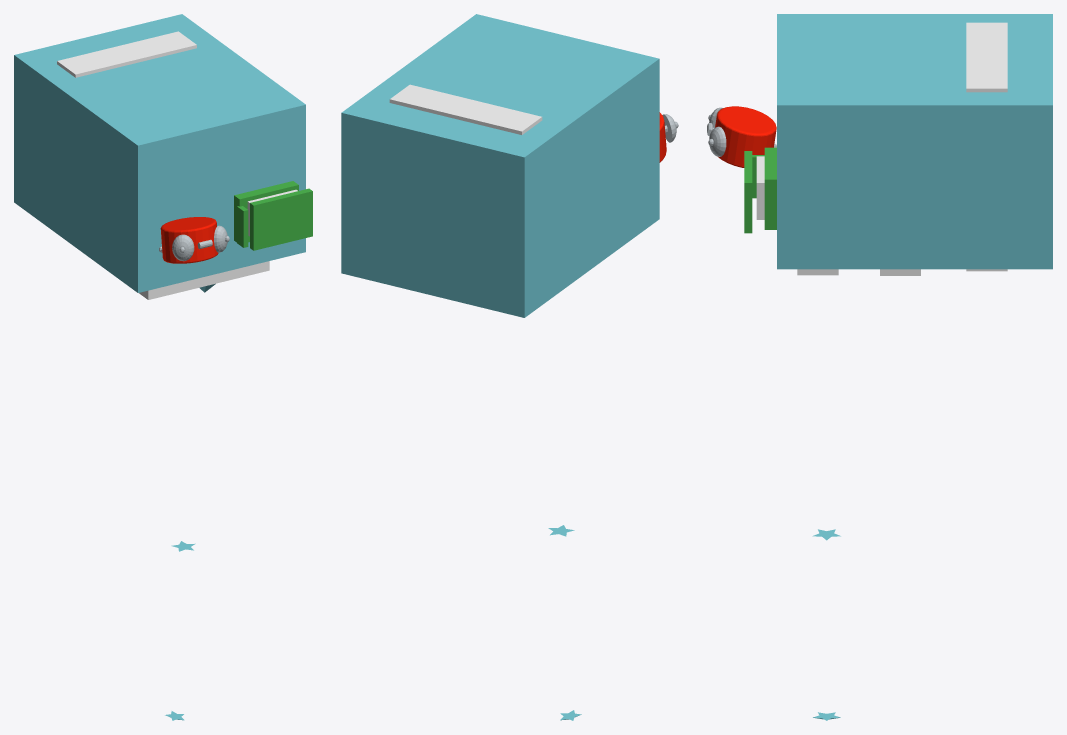
Rendered from tinker.obj.
The picture shows the model from 3 angles, left to right: view 1: azimuth 30°, elevation 25°; view 2: azimuth 150°, elevation 25°; view 3: azimuth 270°, elevation 25°; orthographic projection. The views are drawn at different scales.
Visible parts, largest first — view 1: group_0_7720667, group_0_4634441, group_0_16448250, group_0_16719104, group_0_12568524; view 2: group_0_7720667, group_0_16448250; view 3: group_0_7720667, group_0_16448250, group_0_16719104, group_0_4634441, group_0_12568524.
Boxes of the visible parts, x1,y1,x2,y2 form: group_0_7720667: [14, 14, 305, 720]; group_0_4634441: [234, 181, 312, 250]; group_0_16448250: [57, 31, 297, 299]; group_0_16719104: [160, 217, 218, 263]; group_0_12568524: [159, 225, 229, 261]; group_0_7720667: [341, 14, 659, 720]; group_0_16448250: [389, 84, 542, 134]; group_0_7720667: [777, 14, 1052, 720]; group_0_16448250: [756, 22, 1007, 275]; group_0_16719104: [715, 106, 776, 167]; group_0_4634441: [744, 147, 776, 233]; group_0_12568524: [707, 107, 776, 156].
Size of the model in its own units: 105 by 363 by 168.
